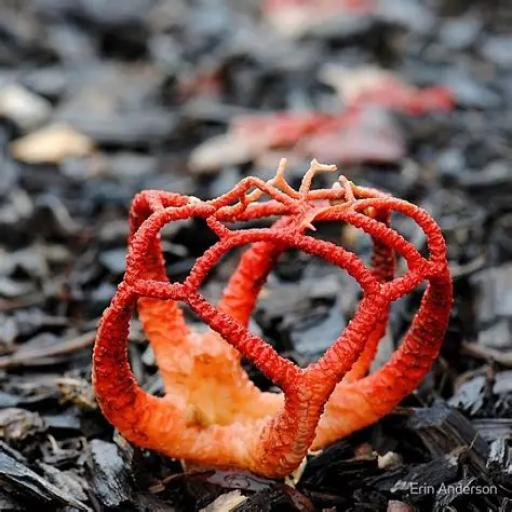Red Cage Fungus: (70, 115, 480, 512)
